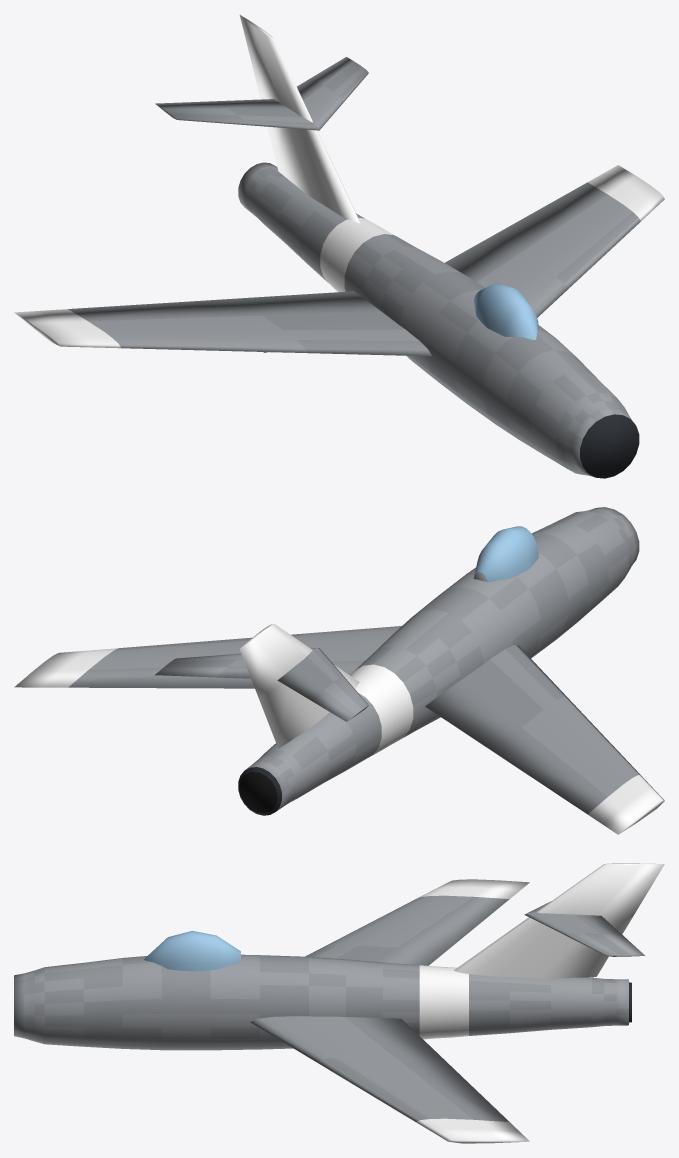
The model's file is mig15bis.glb.
The picture shows the model from 3 angles, top to bottom: view 1: azimuth 30°, elevation 25°; view 2: azimuth 150°, elevation 25°; view 3: azimuth 270°, elevation 25°; orthographic projection. The views are drawn at different scales.
Visible parts, largest first — view 1: body; view 2: body; view 3: body.
Part boxes in pixels (x1,y1,x2,y2): body: (14,15,664,478); body: (14,507,664,834); body: (14,863,664,1143).
Bounding box in the file's own units: 10.08 × 3.3 × 10.69.
